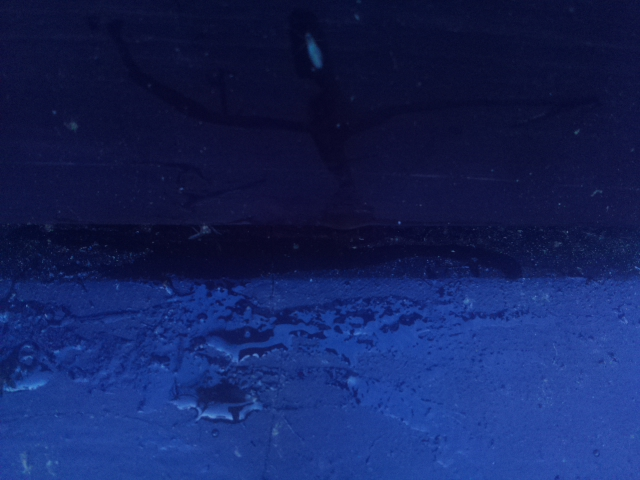ant: (7, 334, 37, 393)
